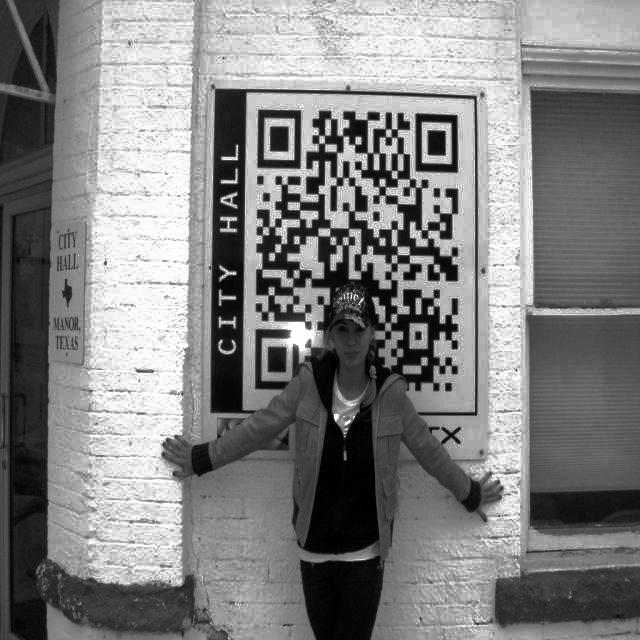qr_code: (255, 109, 457, 391)
